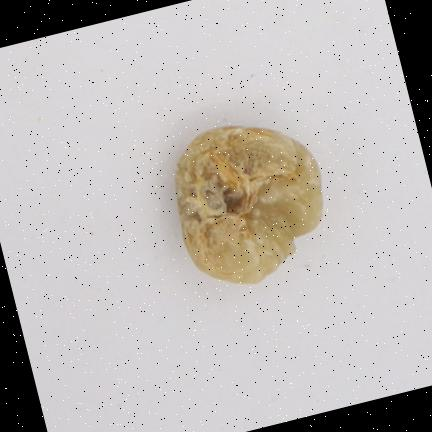husk: (175, 127, 322, 282)
